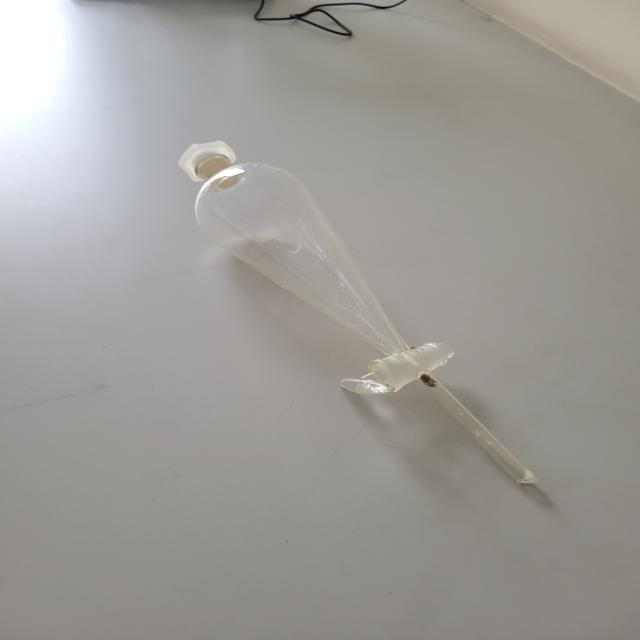Separating_Funnel: (155, 116, 587, 532)
